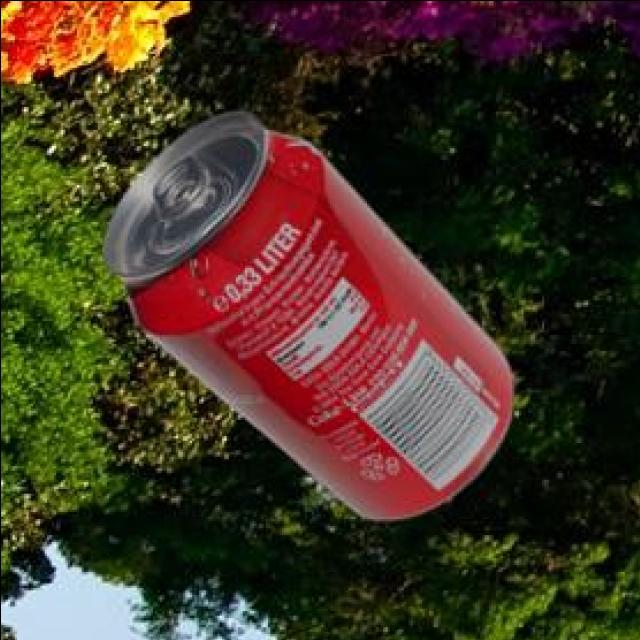logam: (107, 114, 515, 521)
